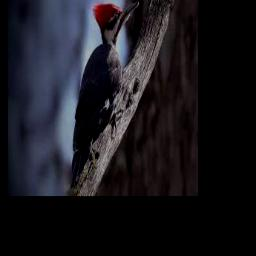Woodpecker: (70, 1, 139, 186)
